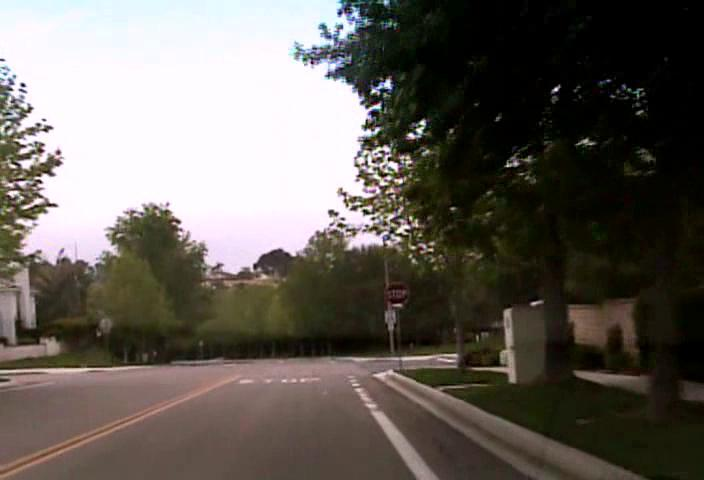stop: (383, 280, 408, 305)
